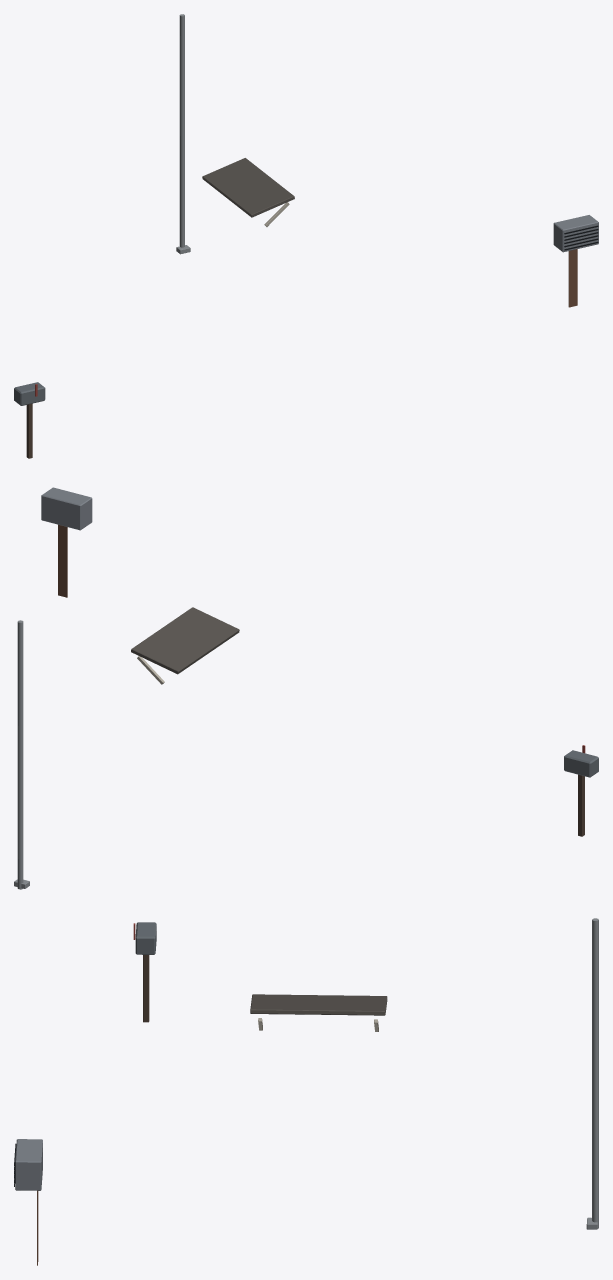
File: house5_bits.glb
The picture shows the model from 3 angles, top to bottom: view 1: azimuth 30°, elevation 25°; view 2: azimuth 150°, elevation 25°; view 3: azimuth 270°, elevation 25°; orthographic projection. The views are drawn at different scales.
Parts seen in each view (by area): view 1: house5_bits; view 2: house5_bits; view 3: house5_bits.
Boxes of the visible parts, bbox=[...] form: house5_bits: bbox=[14, 14, 598, 458]; house5_bits: bbox=[14, 487, 598, 889]; house5_bits: bbox=[14, 918, 598, 1265].
Bounding box in the file's own units: 10.36 × 4.4 × 7.57.
